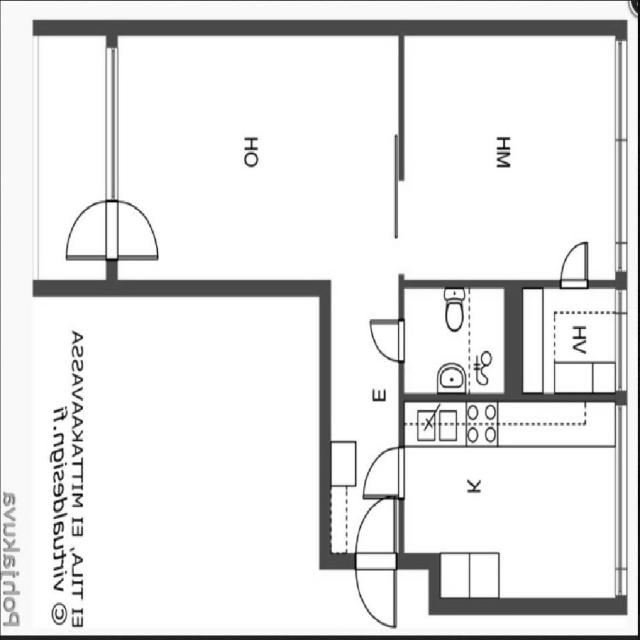door: (514, 274, 626, 401), (349, 495, 401, 633), (104, 190, 166, 262), (58, 191, 117, 264), (359, 443, 409, 502), (364, 311, 410, 368), (556, 234, 593, 290)
window: (606, 37, 640, 266), (98, 38, 127, 206), (613, 402, 633, 588), (612, 127, 632, 267), (613, 288, 631, 397)
zone: (117, 35, 406, 290), (399, 28, 624, 288), (398, 394, 626, 606), (513, 283, 626, 396), (401, 284, 509, 395), (60, 192, 116, 262)
